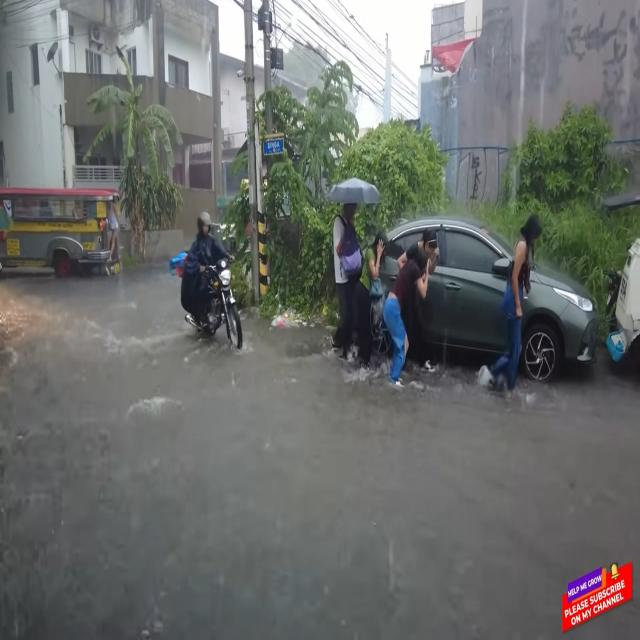half: (194, 206, 213, 243)
